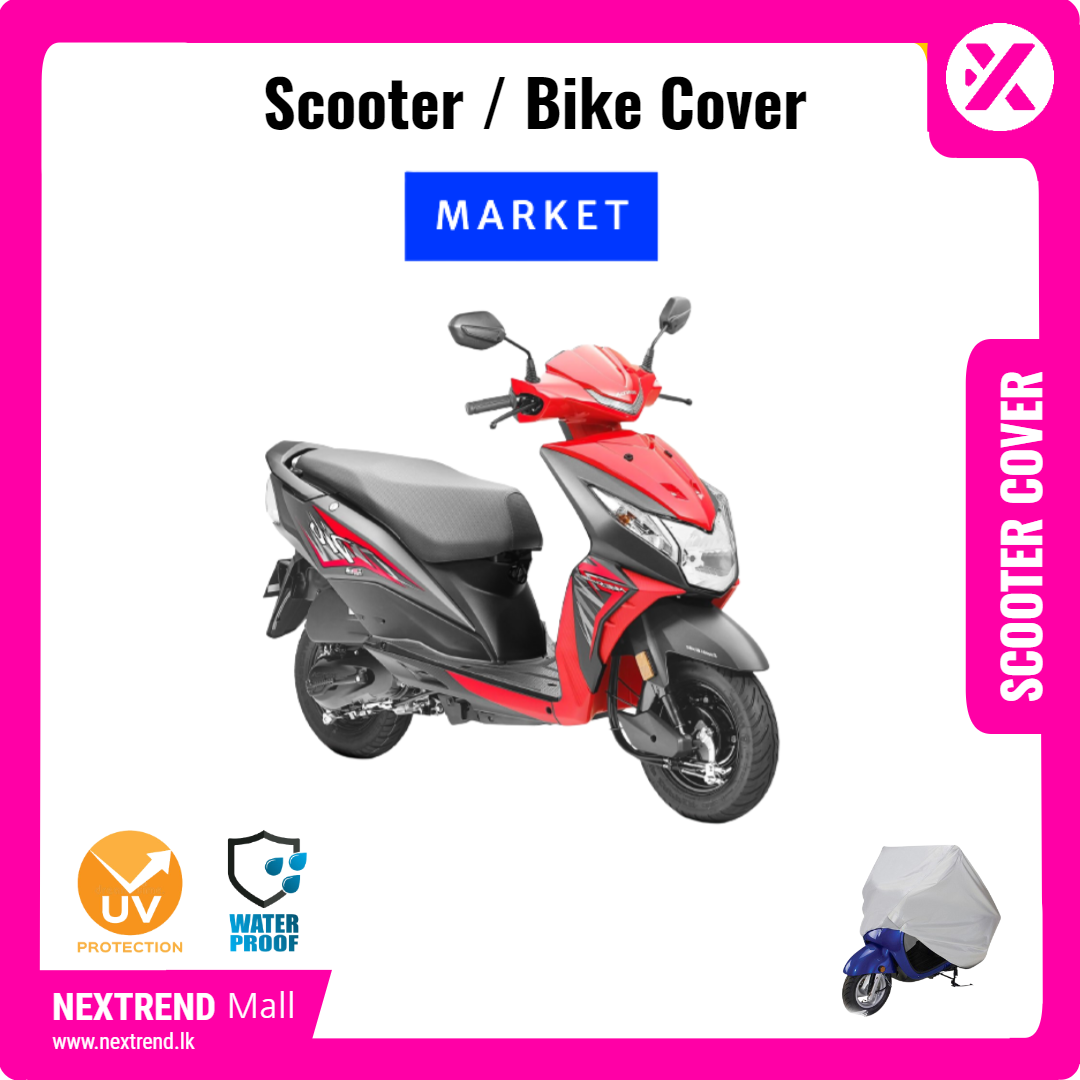motorbike: (263, 296, 784, 824)
